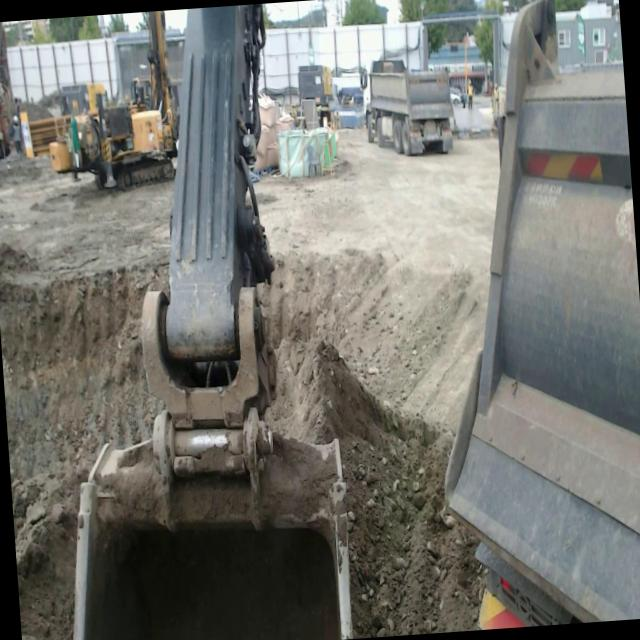white-sand: (256, 131, 498, 638), (0, 159, 173, 640)
